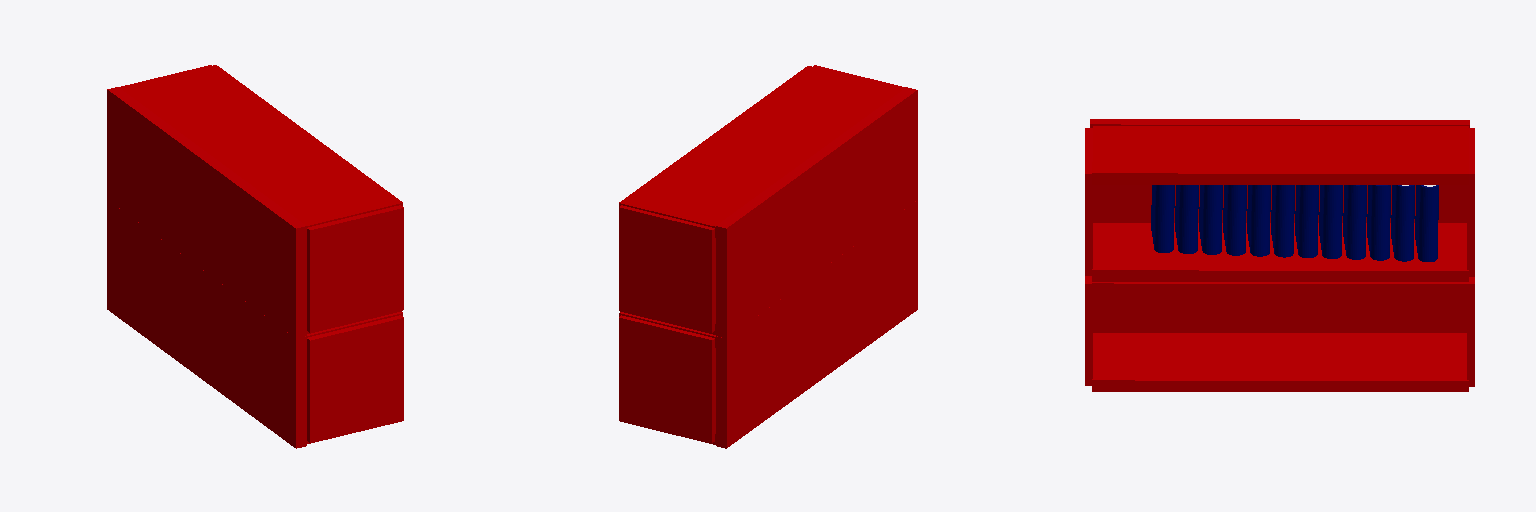
Rendered from Bookcase3.obj.
3 renders of one model, left to right at view 1: azimuth 30°, elevation 25°; view 2: azimuth 150°, elevation 25°; view 3: azimuth 270°, elevation 25°, orthographic.
Visible parts, largest first — view 1: Cube.007, Cube.002, Cube.008, Cube.004, Cube.005; view 2: Cube.007, Cube.002, Cube.008, Cube.003, Cube.006; view 3: Cube.008, Cube, Cylinder.001, Cube.002, Cube.009, Cube.007, Cube.001, Cube.005, Cube.006, Cube.004, Cube.003.
Boxes of the visible parts, box(x1,y1,x2,y2) form: Cube.007: box(107, 87, 306, 338); Cube.002: box(107, 200, 306, 448); Cube.008: box(120, 65, 402, 227); Cube.004: box(307, 315, 403, 442); Cube.005: box(307, 205, 403, 332); Cube.007: box(716, 87, 917, 338); Cube.002: box(716, 200, 917, 448); Cube.008: box(619, 66, 903, 237); Cube.003: box(619, 315, 715, 442); Cube.006: box(619, 205, 715, 332); Cube.008: box(1092, 126, 1468, 184); Cube: box(1092, 333, 1468, 391); Cylinder.001: box(1151, 185, 1438, 261); Cube.002: box(1093, 295, 1466, 332); Cube.009: box(1092, 223, 1468, 281); Cube.007: box(1090, 119, 1469, 222); Cube.001: box(1092, 282, 1468, 294); Cube.005: box(1085, 128, 1092, 275); Cube.006: box(1467, 128, 1474, 276); Cube.004: box(1085, 276, 1092, 385); Cube.003: box(1467, 277, 1474, 386).
Size of the model in its own units: 0.6723 by 1.29 by 2.07.